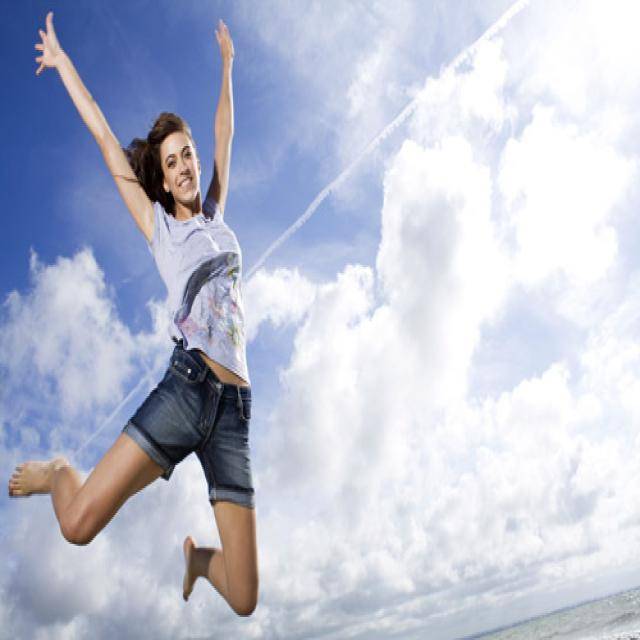stand: (74, 101, 253, 610)
